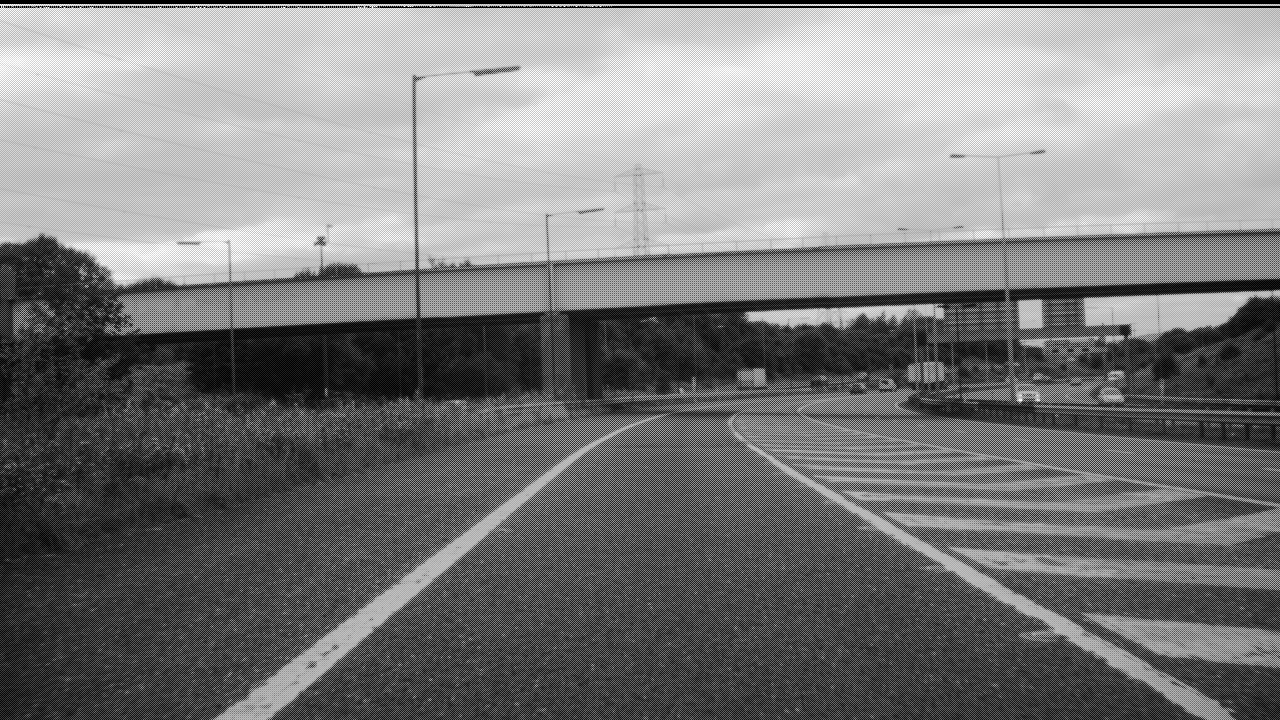pole: (994, 154, 1016, 394), (410, 78, 420, 409), (545, 213, 558, 392), (226, 238, 237, 396)
